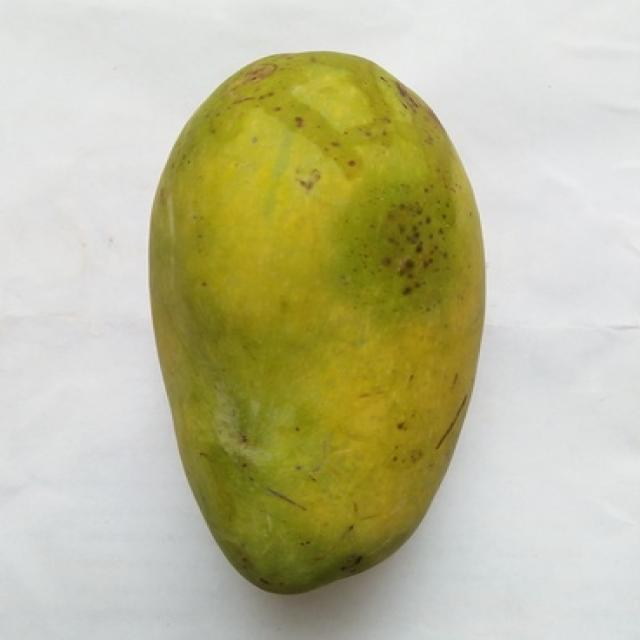Mango: (151, 53, 483, 592)
